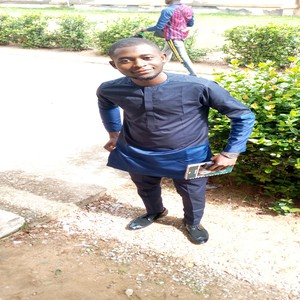Fulokoja_male_student: (104, 40, 211, 242)
